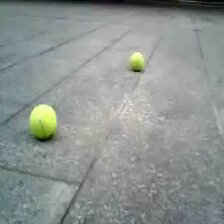tennis: (29, 104, 57, 138), (130, 51, 144, 69)
